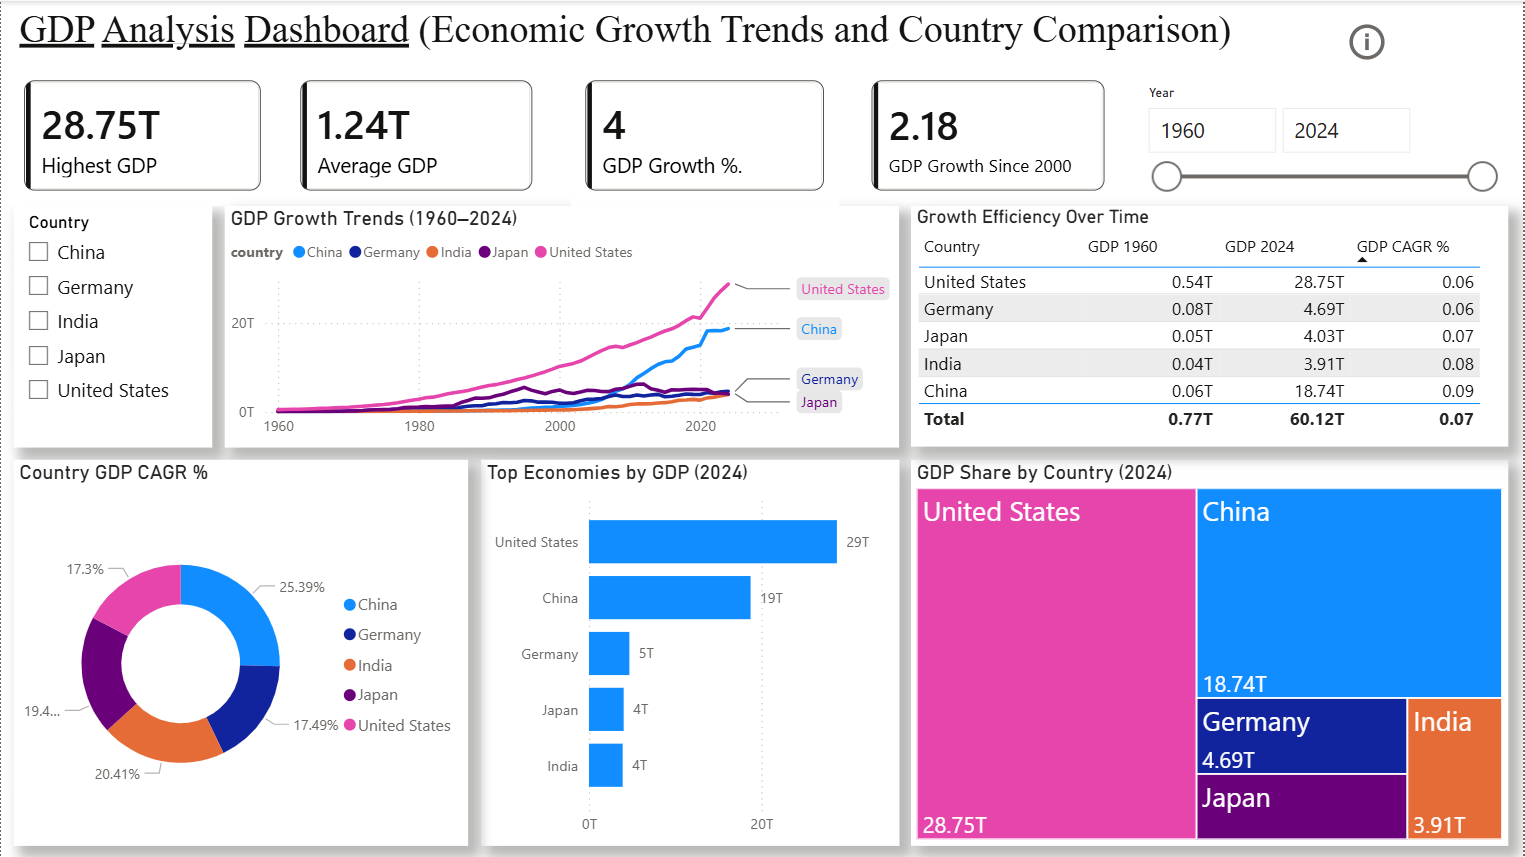

The dashboard page shown, as its layout file describes it:
{"tool":"powerbi","page":{"name":"GDP Analysis","canvas":[1280,720],"ordinal":1},"visuals":[{"type":"textbox","box":[10.2,0,1086.2,54.2],"z":0},{"type":"slicer","fields":{"Values":["economic_analytics economic_data.country"]},"box":[10.5,172.1,167.4,203.5],"z":1000},{"type":"slicer","fields":{"Values":["economic_analytics economic_data.year"]},"box":[952.3,65.1,315.1,97.7],"z":2000},{"type":"cardVisual","fields":{"Data":["economic_analytics economic_data.Highest GDP"]},"box":[7,54.7,223.3,117.4],"z":3000},{"type":"cardVisual","fields":{"Data":["economic_analytics economic_data.Average GDP"]},"box":[239.5,54.7,219.8,117.4],"z":4000},{"type":"cardVisual","fields":{"Data":["economic_analytics economic_data.GDP Growth Since 2000 %"]},"box":[719.8,54.7,220.9,117.4],"z":5000},{"type":"lineChart","title":"GDP Growth Trends (1960–2024)","fields":{"Category":["economic_analytics economic_data.year"],"Series":["economic_analytics economic_data.country"],"Y":["Sum(economic_analytics economic_data.value)"]},"box":[188.4,172.1,567.4,203.5],"z":6000},{"type":"clusteredBarChart","title":"Top Economies by GDP (2024)","fields":{"Category":["economic_analytics economic_data.country"],"Y":["economic_analytics economic_data.Latest GDP."]},"box":[403.5,386,352.3,324.4],"z":7000},{"type":"treemap","title":"GDP Share by Country (2024)","fields":{"Group":["economic_analytics economic_data.country"],"Values":["economic_analytics economic_data.Latest GDP."]},"box":[765.1,386,502.3,324.4],"z":8000},{"type":"cardVisual","fields":{"Data":["economic_analytics economic_data.GDP Growth %."]},"box":[479.1,54.7,225.6,117.4],"z":9000},{"type":"donutChart","title":"Country GDP CAGR %","fields":{"Category":["economic_analytics economic_data.country"],"Y":["economic_analytics economic_data.GDP CAGR %"]},"box":[10.5,386,382.6,324.4],"z":10000},{"type":"tableEx","title":"Growth Efficiency Over Time","fields":{"Values":["economic_analytics economic_data.country","economic_analytics economic_data.GDP 1960","economic_analytics economic_data.GDP 2024","economic_analytics economic_data.GDP CAGR %"]},"box":[765.1,172.1,502.3,202.3],"z":11000},{"type":"actionButton","box":[1129.2,14.7,40.6,39.5],"z":12000}]}

Visuals, with their boxes in screenshot pixels (x1, y1, x2, y2), scaled from the page's 1280x720 canvas onto the 1525x857 screenshot:
textbox: {"left": 12, "top": 0, "right": 1306, "bottom": 65}
slicer - economic_analytics economic_data.country: {"left": 13, "top": 205, "right": 212, "bottom": 447}
slicer - economic_analytics economic_data.year: {"left": 1135, "top": 77, "right": 1510, "bottom": 194}
cardVisual - economic_analytics economic_data.Highest GDP: {"left": 8, "top": 65, "right": 274, "bottom": 205}
cardVisual - economic_analytics economic_data.Average GDP: {"left": 285, "top": 65, "right": 547, "bottom": 205}
cardVisual - economic_analytics economic_data.GDP Growth Since 2000 %: {"left": 858, "top": 65, "right": 1121, "bottom": 205}
"GDP Growth Trends (1960–2024)" lineChart: {"left": 224, "top": 205, "right": 900, "bottom": 447}
"Top Economies by GDP (2024)" clusteredBarChart: {"left": 481, "top": 459, "right": 900, "bottom": 846}
"GDP Share by Country (2024)" treemap: {"left": 912, "top": 459, "right": 1510, "bottom": 846}
cardVisual - economic_analytics economic_data.GDP Growth %.: {"left": 571, "top": 65, "right": 840, "bottom": 205}
"Country GDP CAGR %" donutChart: {"left": 13, "top": 459, "right": 468, "bottom": 846}
"Growth Efficiency Over Time" tableEx: {"left": 912, "top": 205, "right": 1510, "bottom": 446}
actionButton: {"left": 1345, "top": 17, "right": 1394, "bottom": 65}
